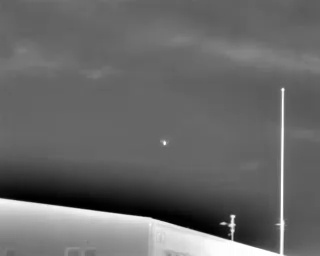HELICOPTER: (159, 137, 171, 149)
